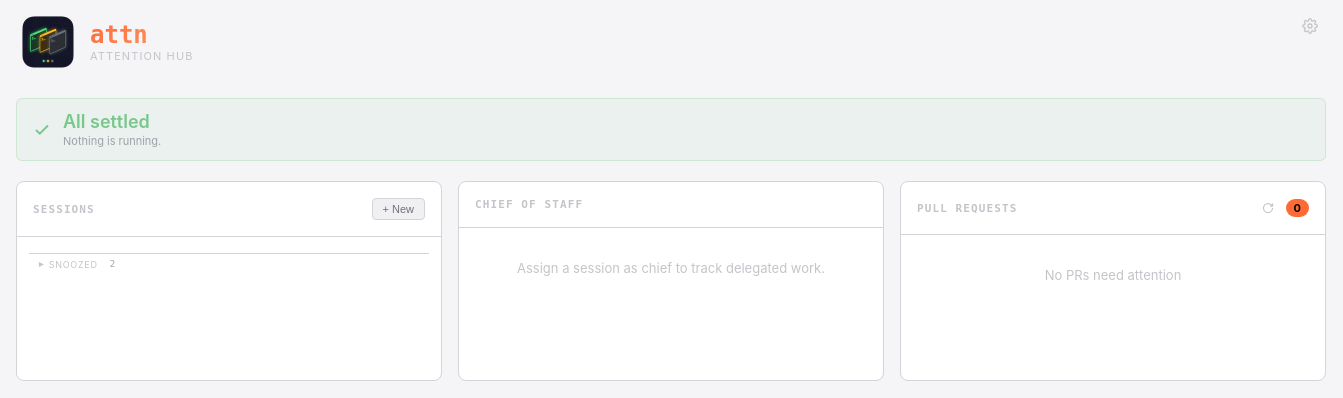
Test case: Dashboard snoozed agents › is collapsed until asked, then lists each wake time
What coordinates should you click on to do the following:
click the button with test id "session-group-snoozed-header"
I would click on:
 (73, 264)
Its box is x1=29 y1=258 x2=429 y2=270.
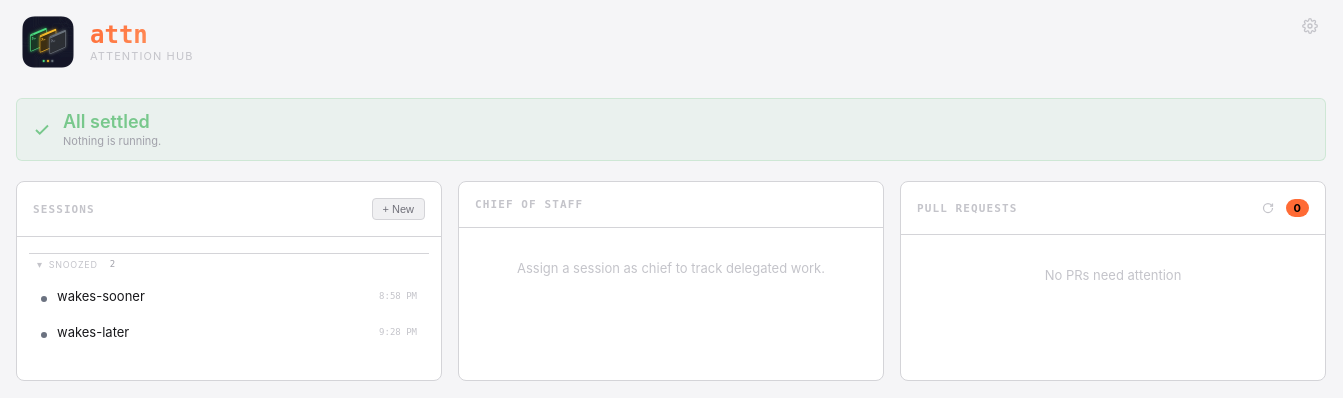
Result: the number of elements with class "session-wake-at" is 2 at x1=379 y1=291 x2=417 y2=301; x1=379 y1=327 x2=417 y2=337
